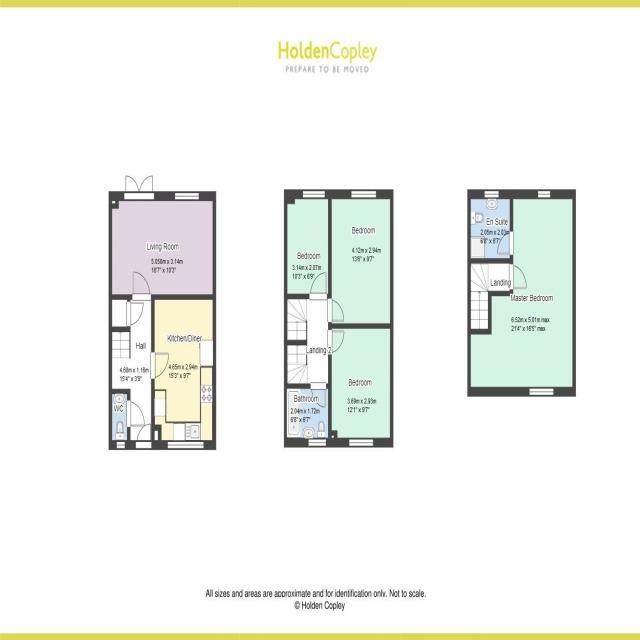DOOR: (131, 270, 153, 301), (150, 351, 171, 381), (509, 262, 528, 295), (126, 398, 146, 428), (309, 271, 328, 300), (134, 422, 152, 450), (496, 230, 514, 257), (327, 328, 345, 355), (327, 298, 345, 324)
DOUBLE DOOR: (123, 174, 155, 200)
ROOM: (467, 189, 576, 397), (109, 174, 217, 300), (150, 293, 217, 450), (327, 188, 394, 329), (328, 323, 394, 448), (284, 188, 332, 299)
WINDOW: (166, 441, 205, 451), (174, 191, 201, 202), (350, 189, 377, 200), (529, 387, 556, 398), (348, 438, 374, 448), (301, 189, 326, 199), (307, 438, 327, 448), (483, 189, 500, 200), (537, 189, 552, 200), (116, 440, 126, 450)
